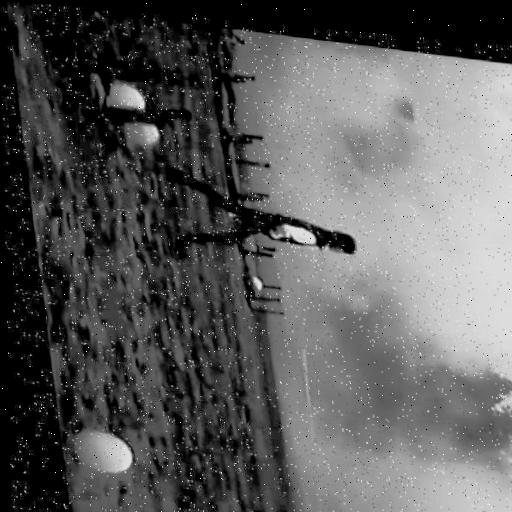balloon: (57, 428, 125, 476), (105, 83, 147, 114), (118, 118, 159, 145)
